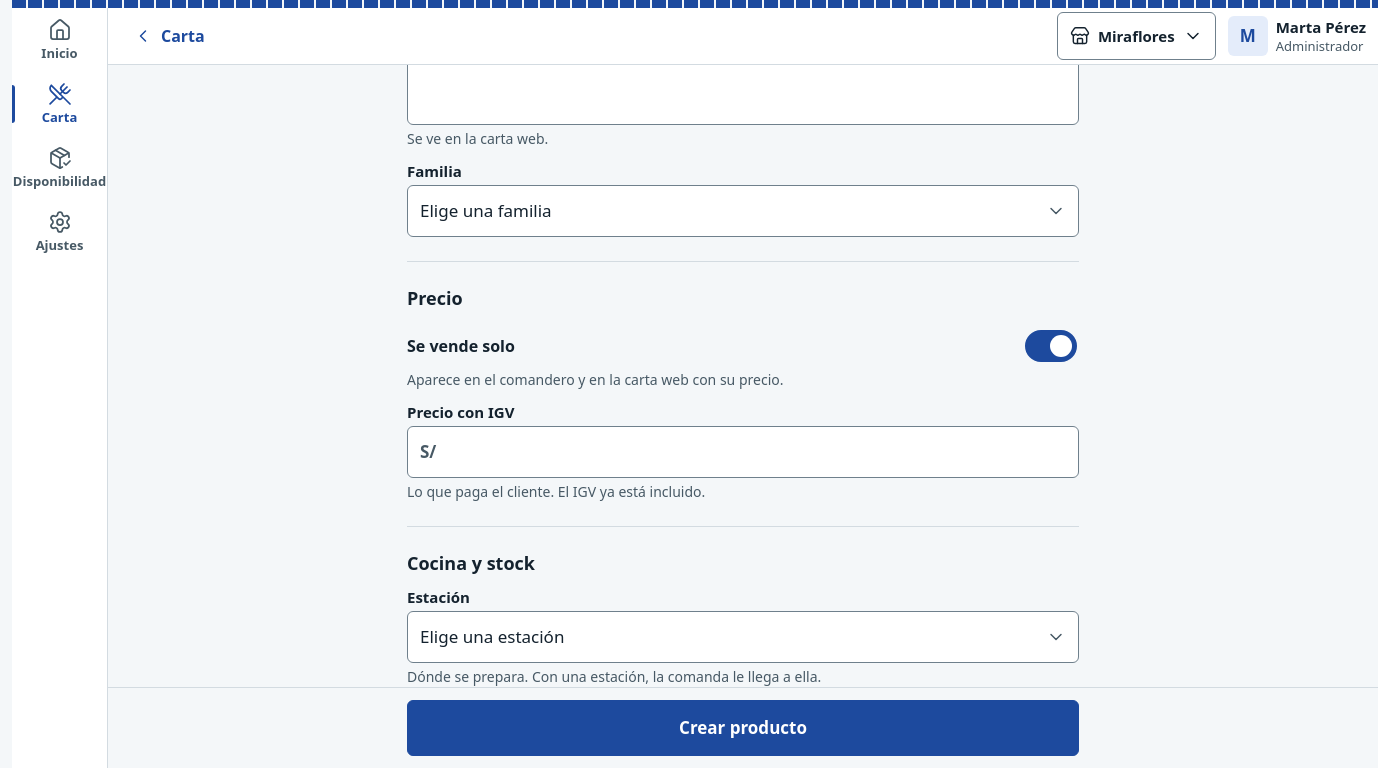
it: formulario de producto: alta › no deja crear sin lo mínimo, lo dice campo por campo y no envía nada
(page scrolled)
Click the button "Crear producto" at [743, 728], box 407,700 -> 1079,756
(page scrolled)
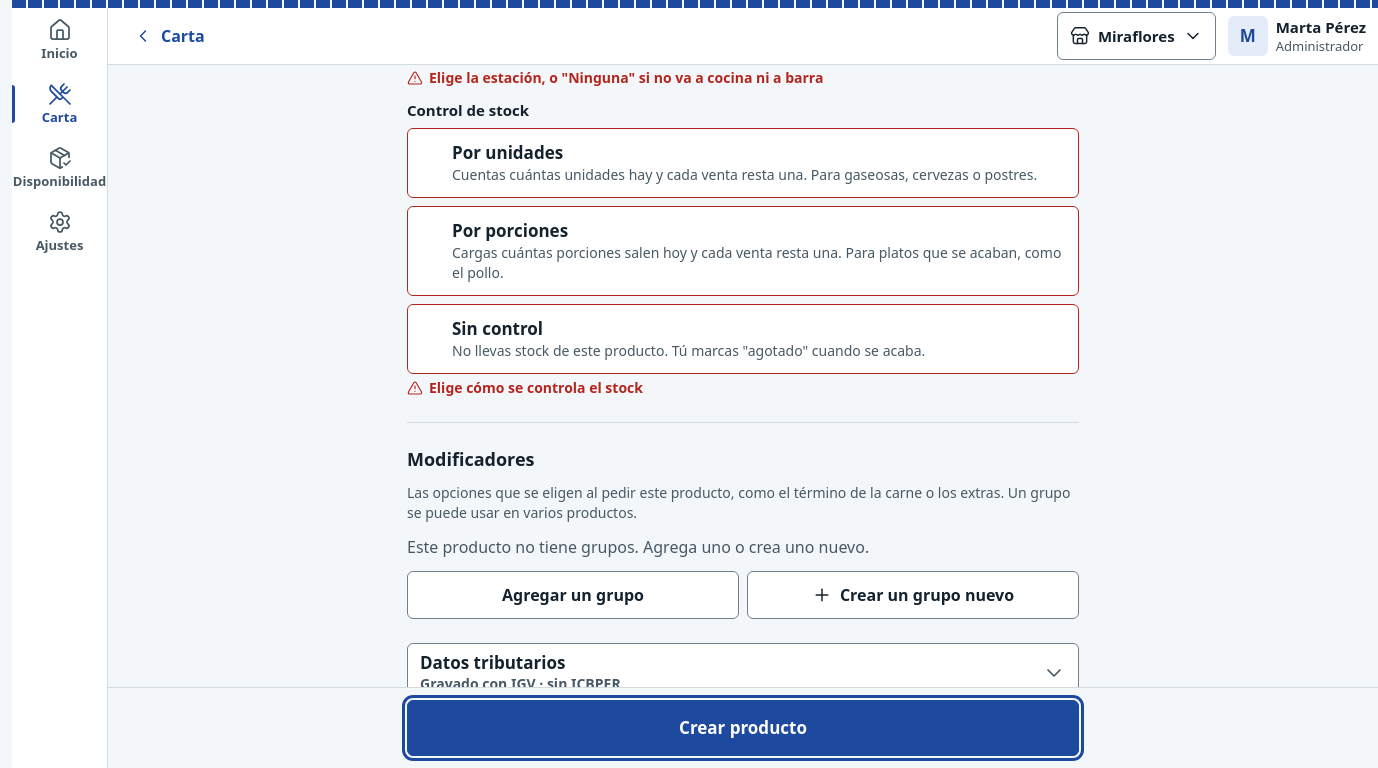
Result: the text "Elige la estación, o \"Ninguna\" si no va a cocina ni a barra" is shown at 429,68 -> 823,88
Result: the text "Elige cómo se controla el stock" is shown at 429,378 -> 643,398
